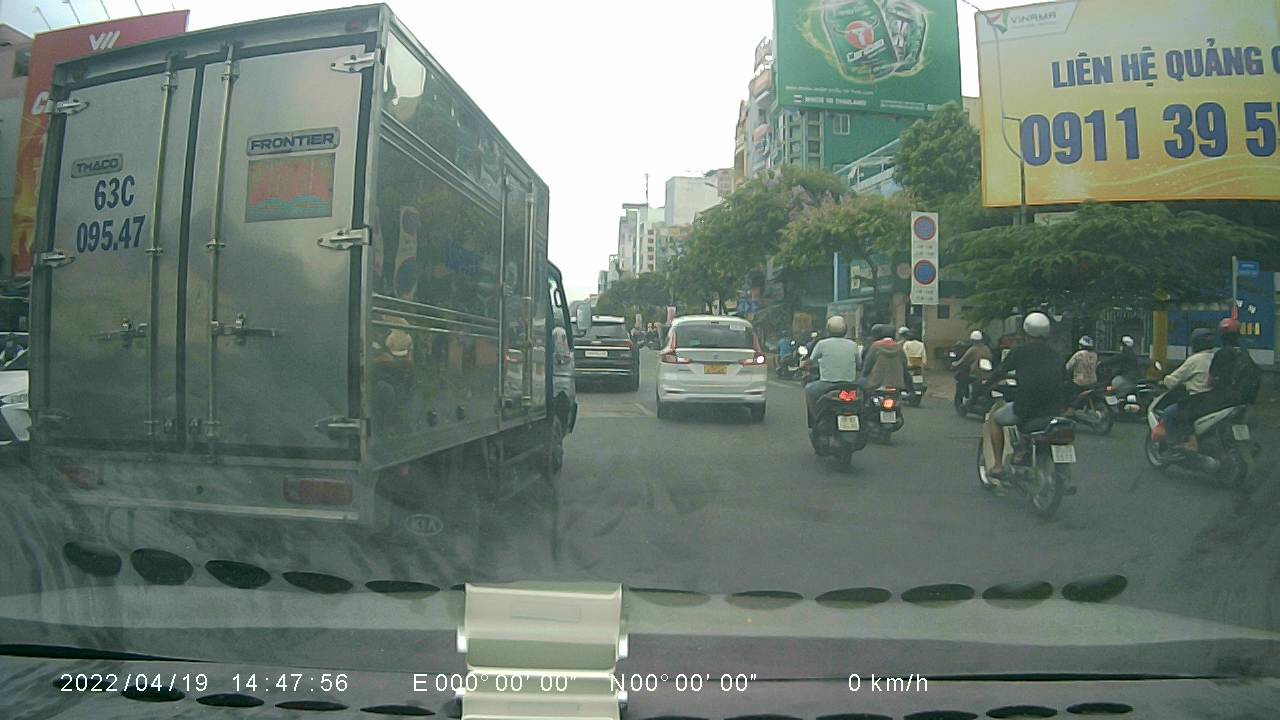Cam do xe: (912, 257, 943, 284)
